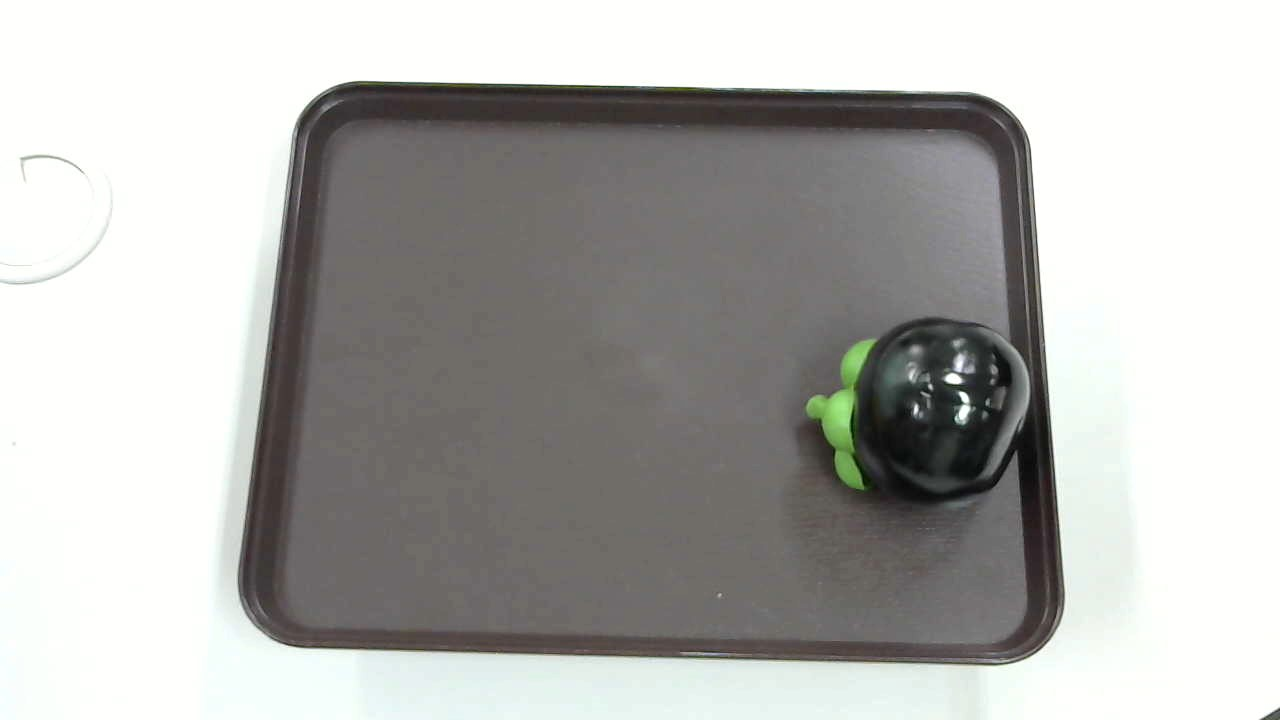mangosteen: (801, 319, 1034, 513)
